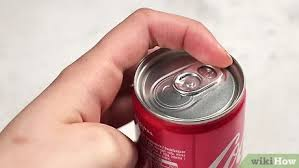can: (134, 46, 244, 168)
